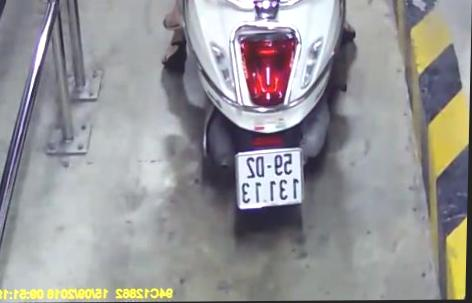License_Plate: (233, 143, 312, 214)
